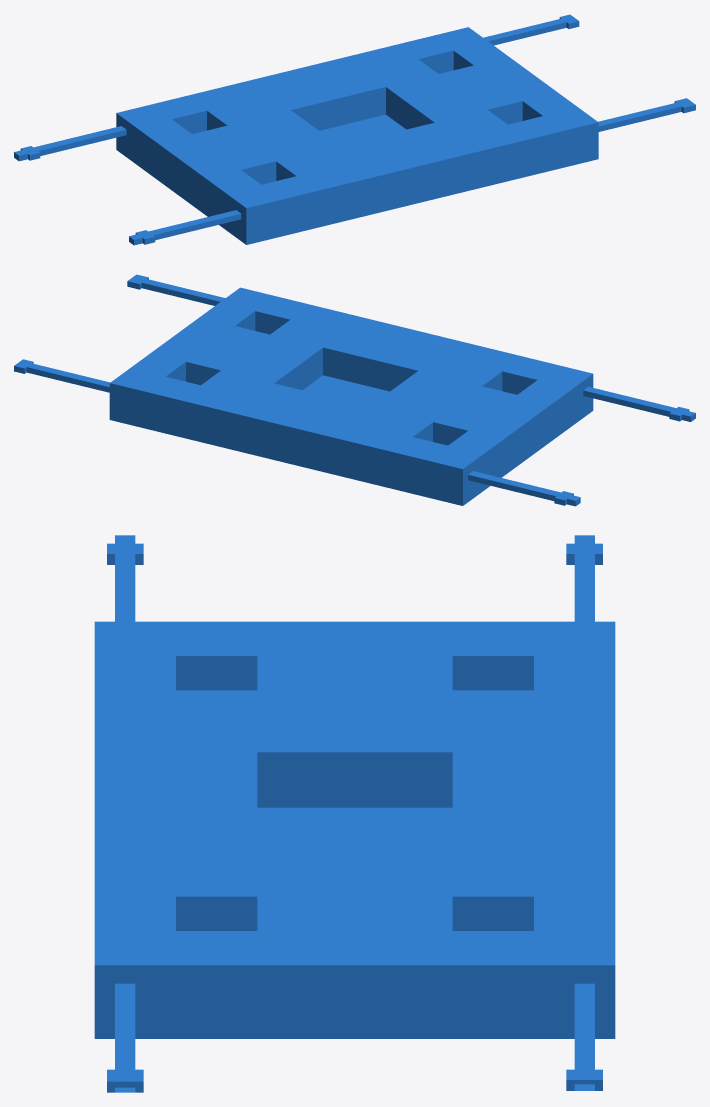
The model's file is anglais.glb.
3 views of the same model, one above another, from view 1: azimuth 30°, elevation 25°; view 2: azimuth 150°, elevation 25°; view 3: azimuth 270°, elevation 25° (orthographic). The views are drawn at different scales.
Parts seen in each view (by area): view 1: Cube; view 2: Cube; view 3: Cube.
Boxes of the visible parts, x1,y1,x2,y2 form: Cube: (14, 14, 695, 245); Cube: (14, 274, 695, 506); Cube: (94, 535, 615, 1092).
Bounding box in the file's own units: 3.18 × 0.2 × 1.28.
